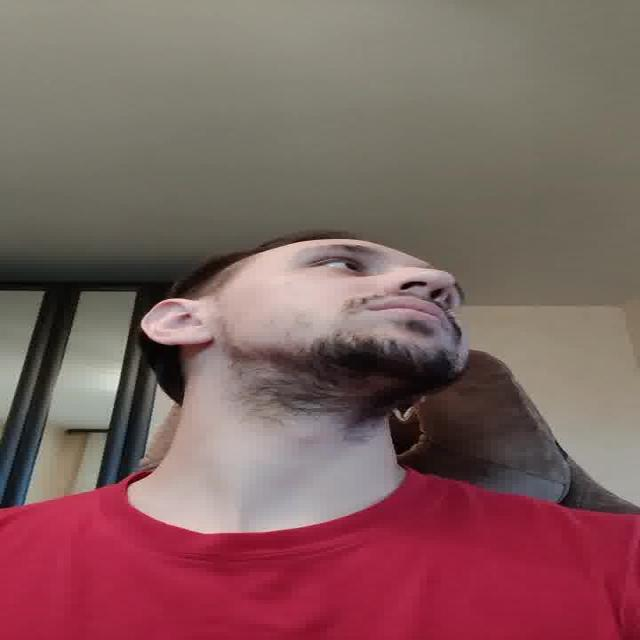earlobe: (162, 332, 216, 345), (413, 396, 433, 406)
eye: (314, 256, 364, 274), (445, 294, 458, 308)
nose: (388, 284, 450, 303)
wholeear: (142, 298, 214, 346)
